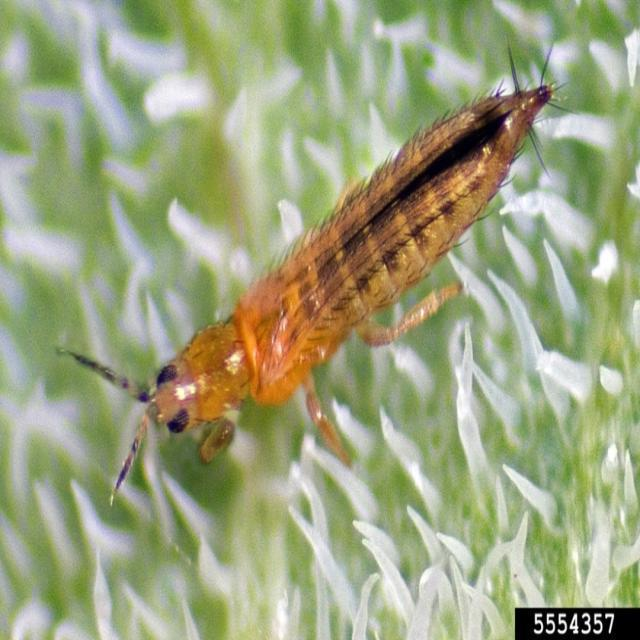Thrips: (58, 20, 583, 527)
